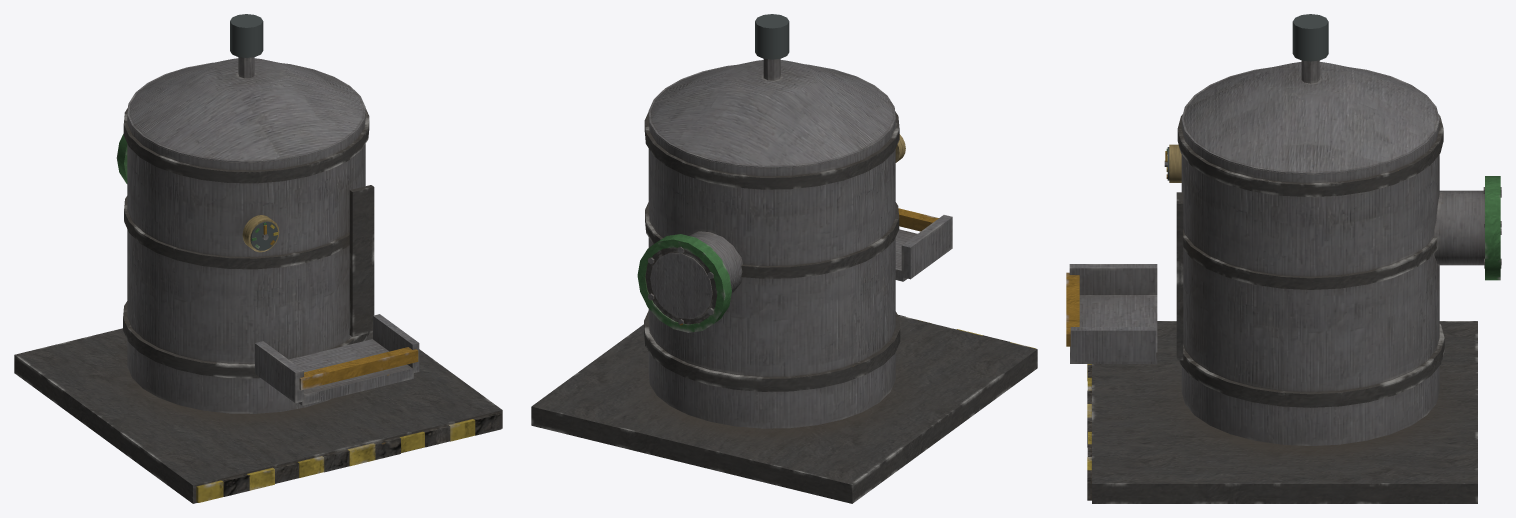
Rendered from feFermenter_HD.fbx.
The picture shows the model from 3 angles, left to right: view 1: azimuth 30°, elevation 25°; view 2: azimuth 150°, elevation 25°; view 3: azimuth 270°, elevation 25°; orthographic projection. The views are drawn at different scales.
Visible parts, largest first — view 1: feFermenter_Base; view 2: feFermenter_Base; view 3: feFermenter_Base.
Part boxes in pixels (left/top/right/bottom): feFermenter_Base: left=14, top=14, right=502, bottom=503; feFermenter_Base: left=531, top=14, right=1037, bottom=503; feFermenter_Base: left=1066, top=14, right=1501, bottom=503.
Bounding box in the file's own units: 0.9012 × 1.03 × 1.02.
Materials: 1 (1 with a texture image).
